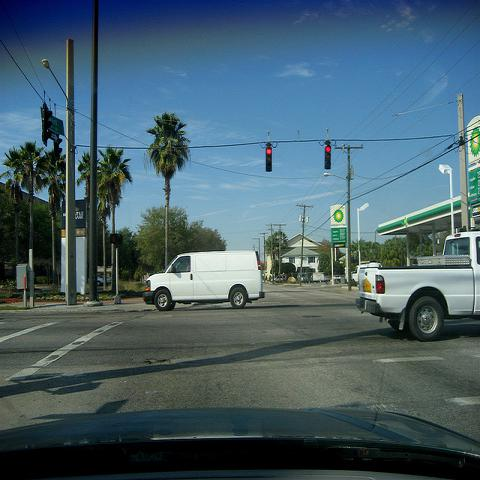car: (2, 405, 478, 474), (88, 275, 111, 288), (271, 274, 286, 283), (297, 273, 310, 282), (324, 274, 330, 282)
truck: (358, 232, 479, 343), (143, 249, 265, 310)
